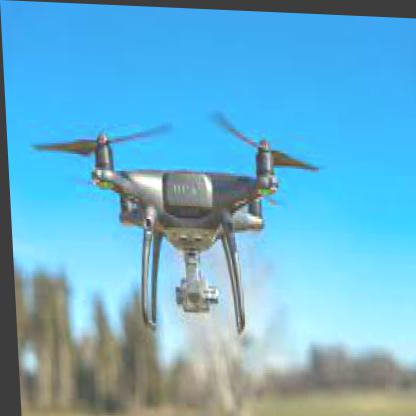UAS: (27, 103, 322, 333)
